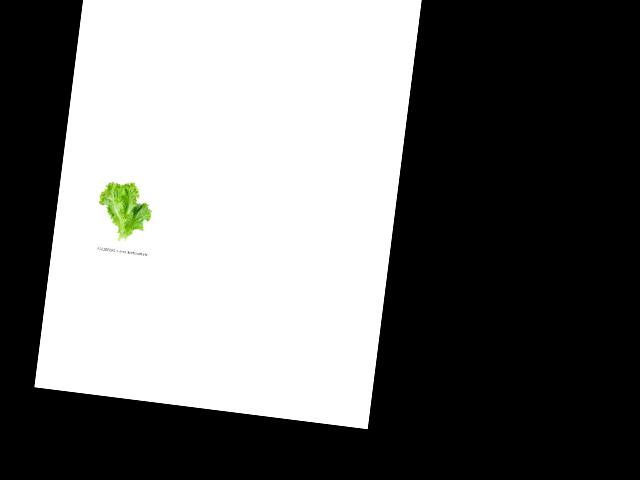lettuce: (94, 177, 156, 248)
